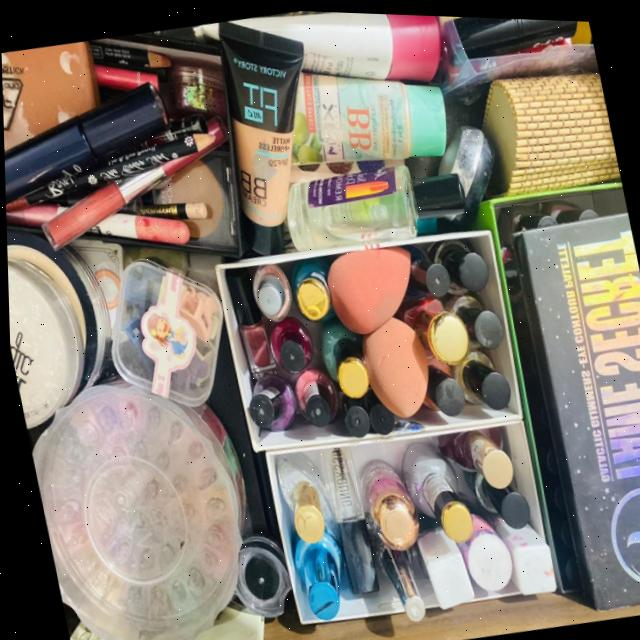bb cream: (199, 6, 469, 234)
beauty blender: (327, 239, 431, 422)
eye shade: (498, 193, 640, 621), (25, 406, 257, 640)
highlighter: (6, 239, 104, 433)
lip shade: (447, 49, 622, 212)
lip stick: (434, 13, 594, 67)
mascara: (2, 88, 194, 221)
nail polish: (263, 399, 546, 640), (243, 254, 358, 441), (410, 234, 519, 410)
